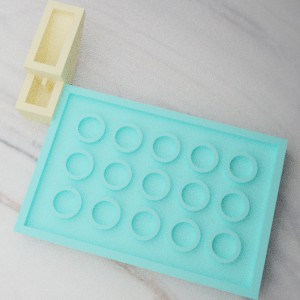lego: (12, 83, 287, 300), (14, 0, 85, 127)
